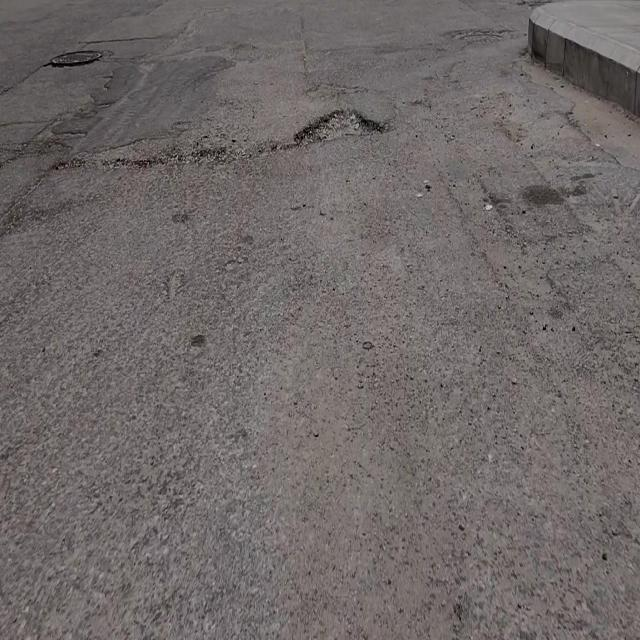Potholes: (290, 101, 386, 147)
